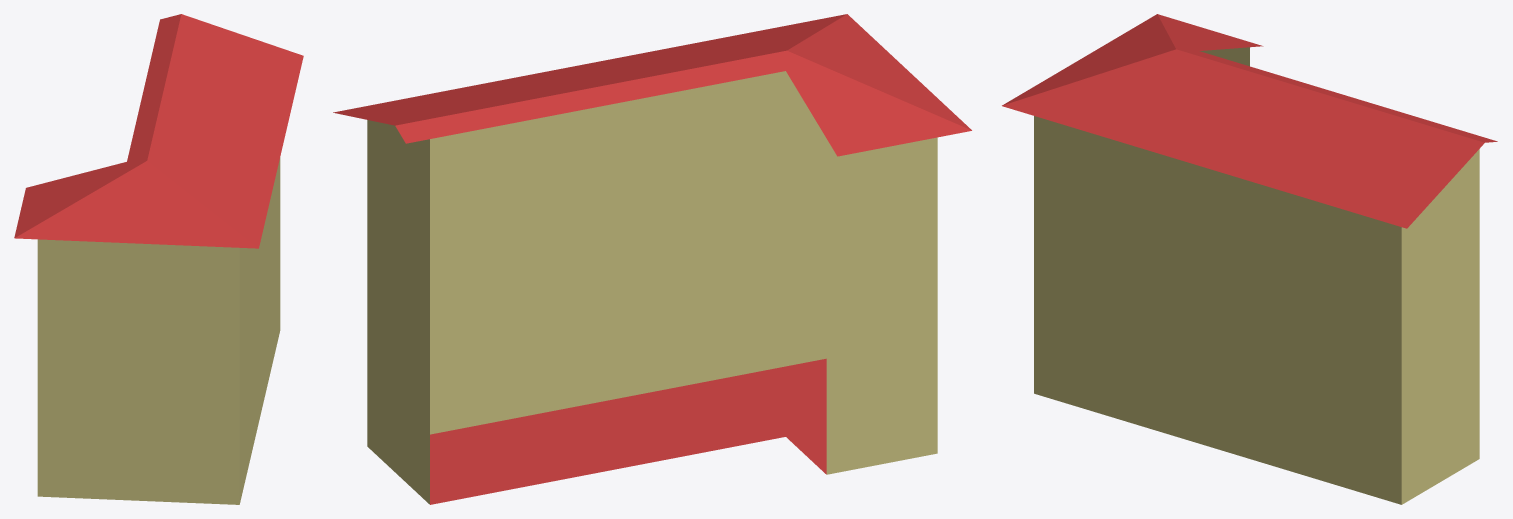
3 renders of one model, left to right at view 1: azimuth 30°, elevation 25°; view 2: azimuth 150°, elevation 25°; view 3: azimuth 270°, elevation 25°, orthographic. The views are drawn at different scales.
Bounding box in the file's own units: 10.9 × 10.66 × 7.81.
